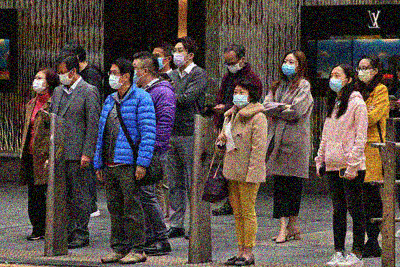with_mask: (356, 64, 373, 84), (280, 58, 297, 78), (328, 72, 344, 93), (107, 69, 122, 91), (231, 89, 248, 108), (171, 47, 187, 67), (56, 69, 72, 86), (31, 75, 46, 93), (225, 60, 241, 74), (132, 63, 142, 84)
